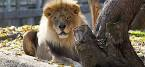lion: (23, 6, 89, 58)
